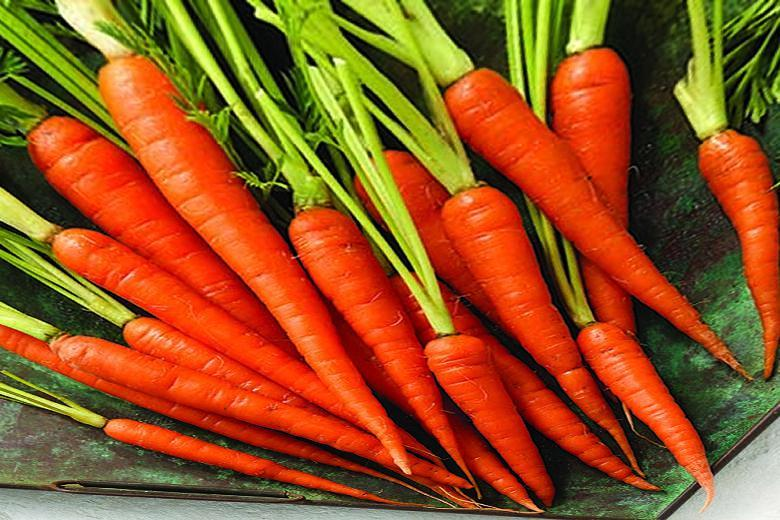carrot: (353, 37, 780, 482), (21, 56, 460, 486)
